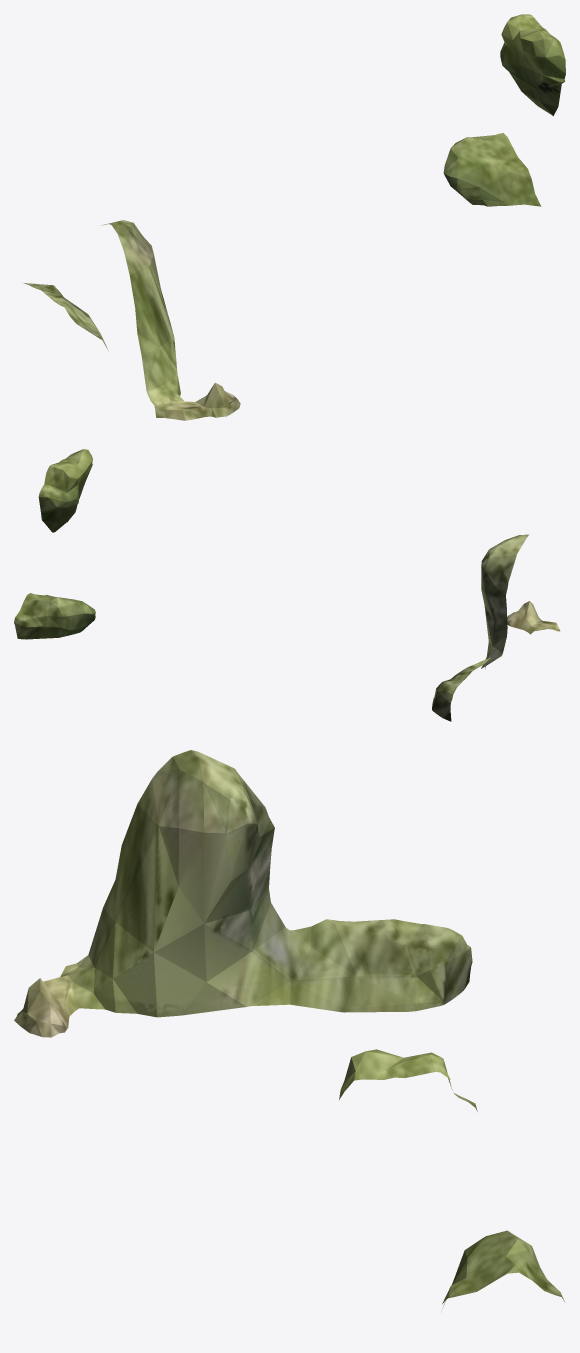
3 views of the same model, one above another, from view 1: azimuth 30°, elevation 25°; view 2: azimuth 150°, elevation 25°; view 3: azimuth 270°, elevation 25° (orthographic). The views are drawn at different scales.
Size of the model in its own units: 5.9 by 2.13 by 3.85.
1 material, 1 textured.
